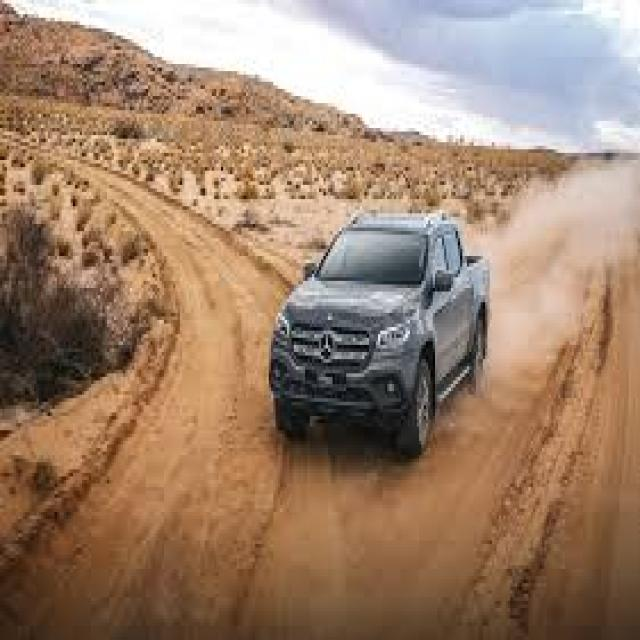Pickup Trucks: (269, 213, 492, 455)
